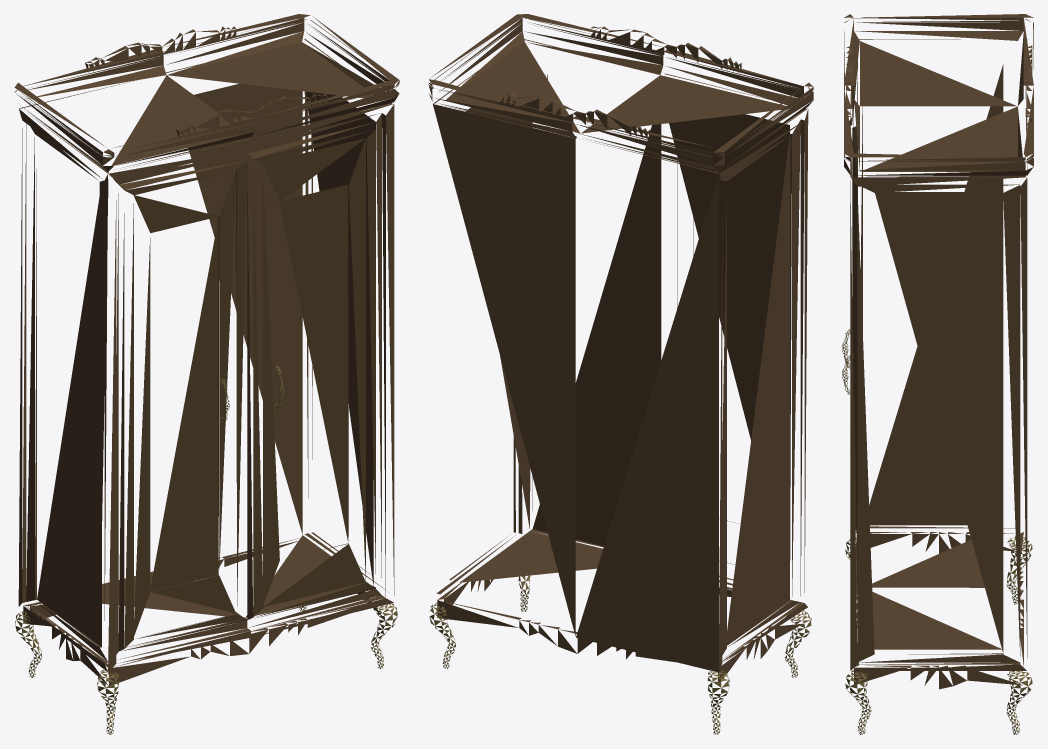
Rendered from cabinet_01.glb.
3 renders of one model, left to right at view 1: azimuth 30°, elevation 25°; view 2: azimuth 150°, elevation 25°; view 3: azimuth 270°, elevation 25°, orthographic.
Visible parts, largest first — view 1: geometry_0; view 2: geometry_0; view 3: geometry_0.
Boxes of the visible parts, x1=… form: geometry_0: x1=14, y1=14, x2=399, y2=734; geometry_0: x1=428, y1=14, x2=813, y2=734; geometry_0: x1=842, y1=14, x2=1033, y2=734.
Bounding box in the file's own units: 1.55 × 2.98 × 0.87.
